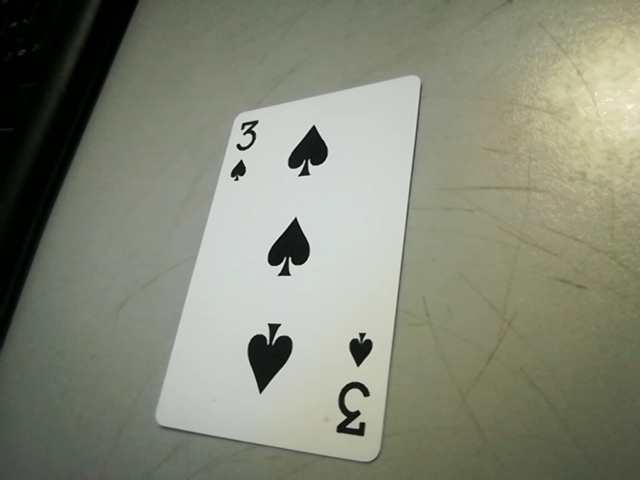ht 3: (222, 113, 269, 183)
